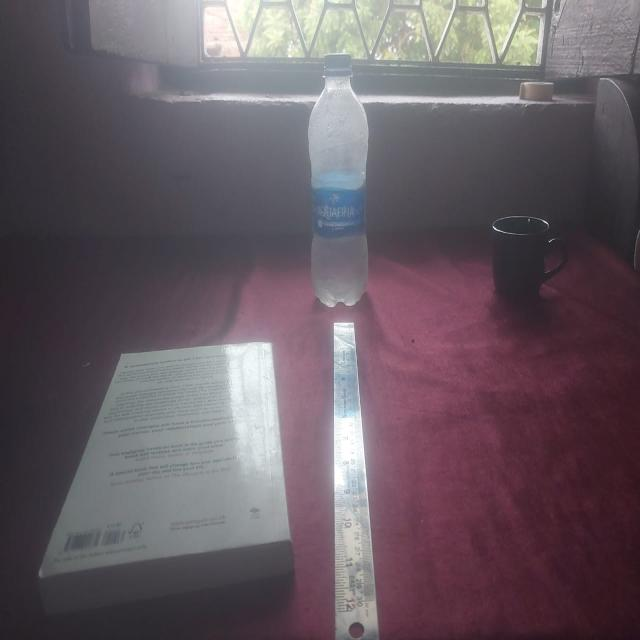Book: (26, 345, 296, 613)
Bottle: (301, 55, 372, 308)
Cup: (491, 210, 571, 306)
scale: (319, 323, 384, 640)
